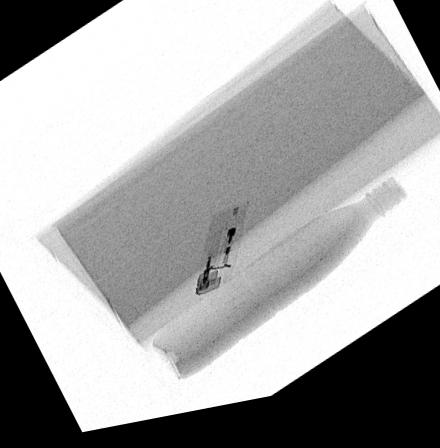Lighter: (195, 209, 248, 303)
